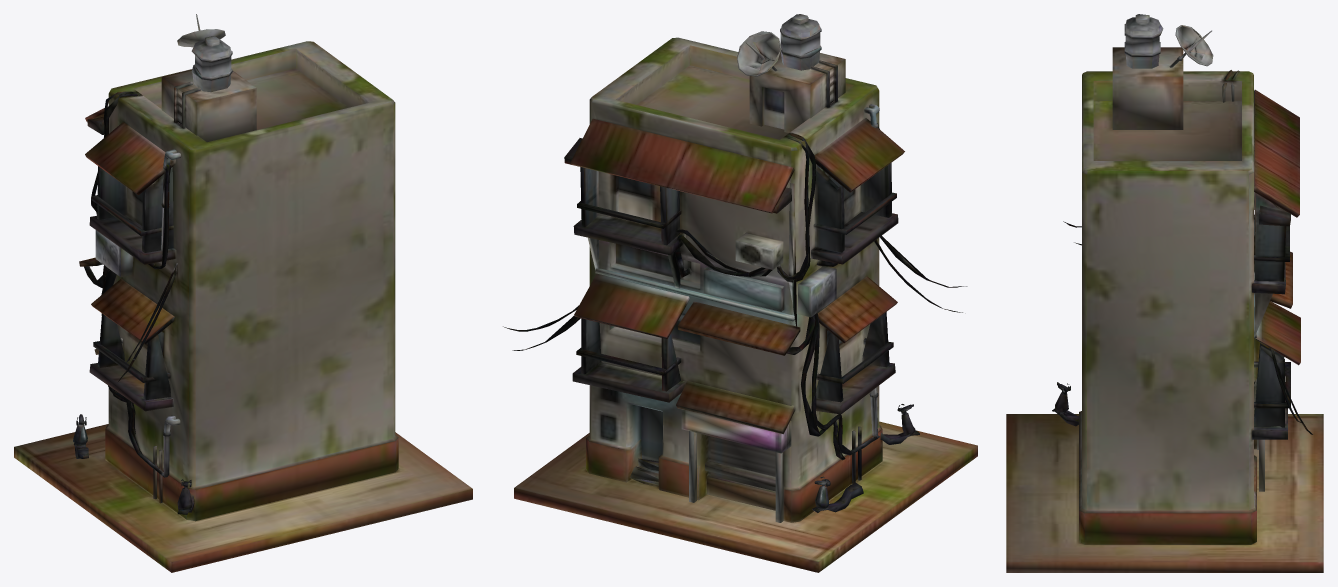
File: border_guesthouse.glb
The picture shows the model from 3 angles, left to right: view 1: azimuth 30°, elevation 25°; view 2: azimuth 150°, elevation 25°; view 3: azimuth 270°, elevation 25°; orthographic projection.
Visible parts, largest first — view 1: Body; view 2: Body; view 3: Body.
Boxes of the visible parts, x1,y1,x2,y2 form: Body: (14, 14, 472, 572); Body: (503, 14, 977, 572); Body: (1006, 14, 1323, 572).
Size of the model in its own units: 10 by 12.68 by 7.92.
Materials: 1 (1 with a texture image).
